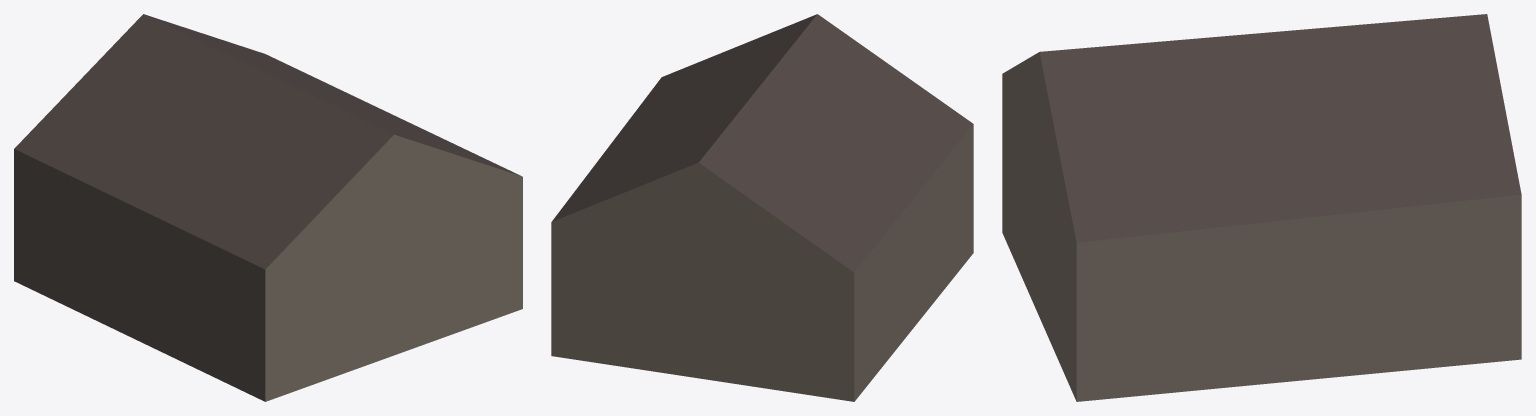
3 views of the same model, side by side, from view 1: azimuth 30°, elevation 25°; view 2: azimuth 150°, elevation 25°; view 3: azimuth 270°, elevation 25° (orthographic). The views are drawn at different scales.
Parts seen in each view (by area): view 1: HP-w378107116; view 2: HP-w378107116; view 3: HP-w378107116.
Part boxes in pixels (<box>): HP-w378107116: <box>14,14,522,401</box>; HP-w378107116: <box>551,14,973,401</box>; HP-w378107116: <box>1002,14,1521,401</box>.
Bounding box in the file's own units: 16.75 × 10.02 × 17.75.
